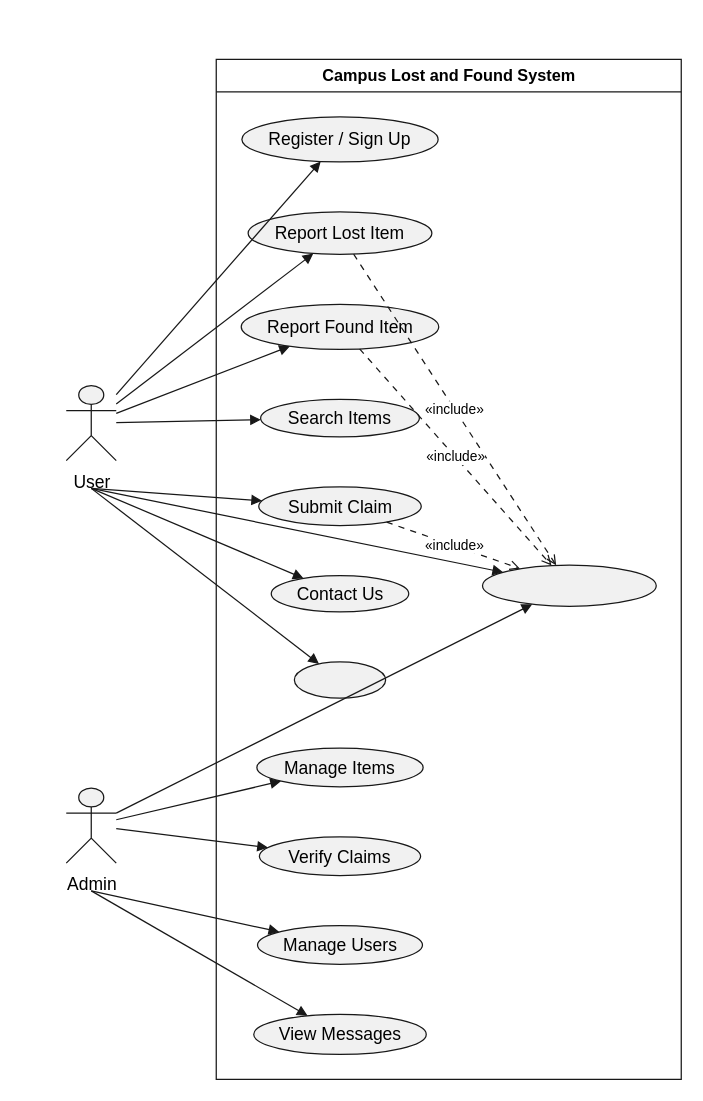
This 703x1101 diagram has some shape labels left out. The shapes that lost their labels are listed below. From the top down, each one's box as (x1, y1, x2, y2) in pixels, then its label:
(481, 564, 656, 606): Login / Sign In
(293, 661, 386, 698): Logout
